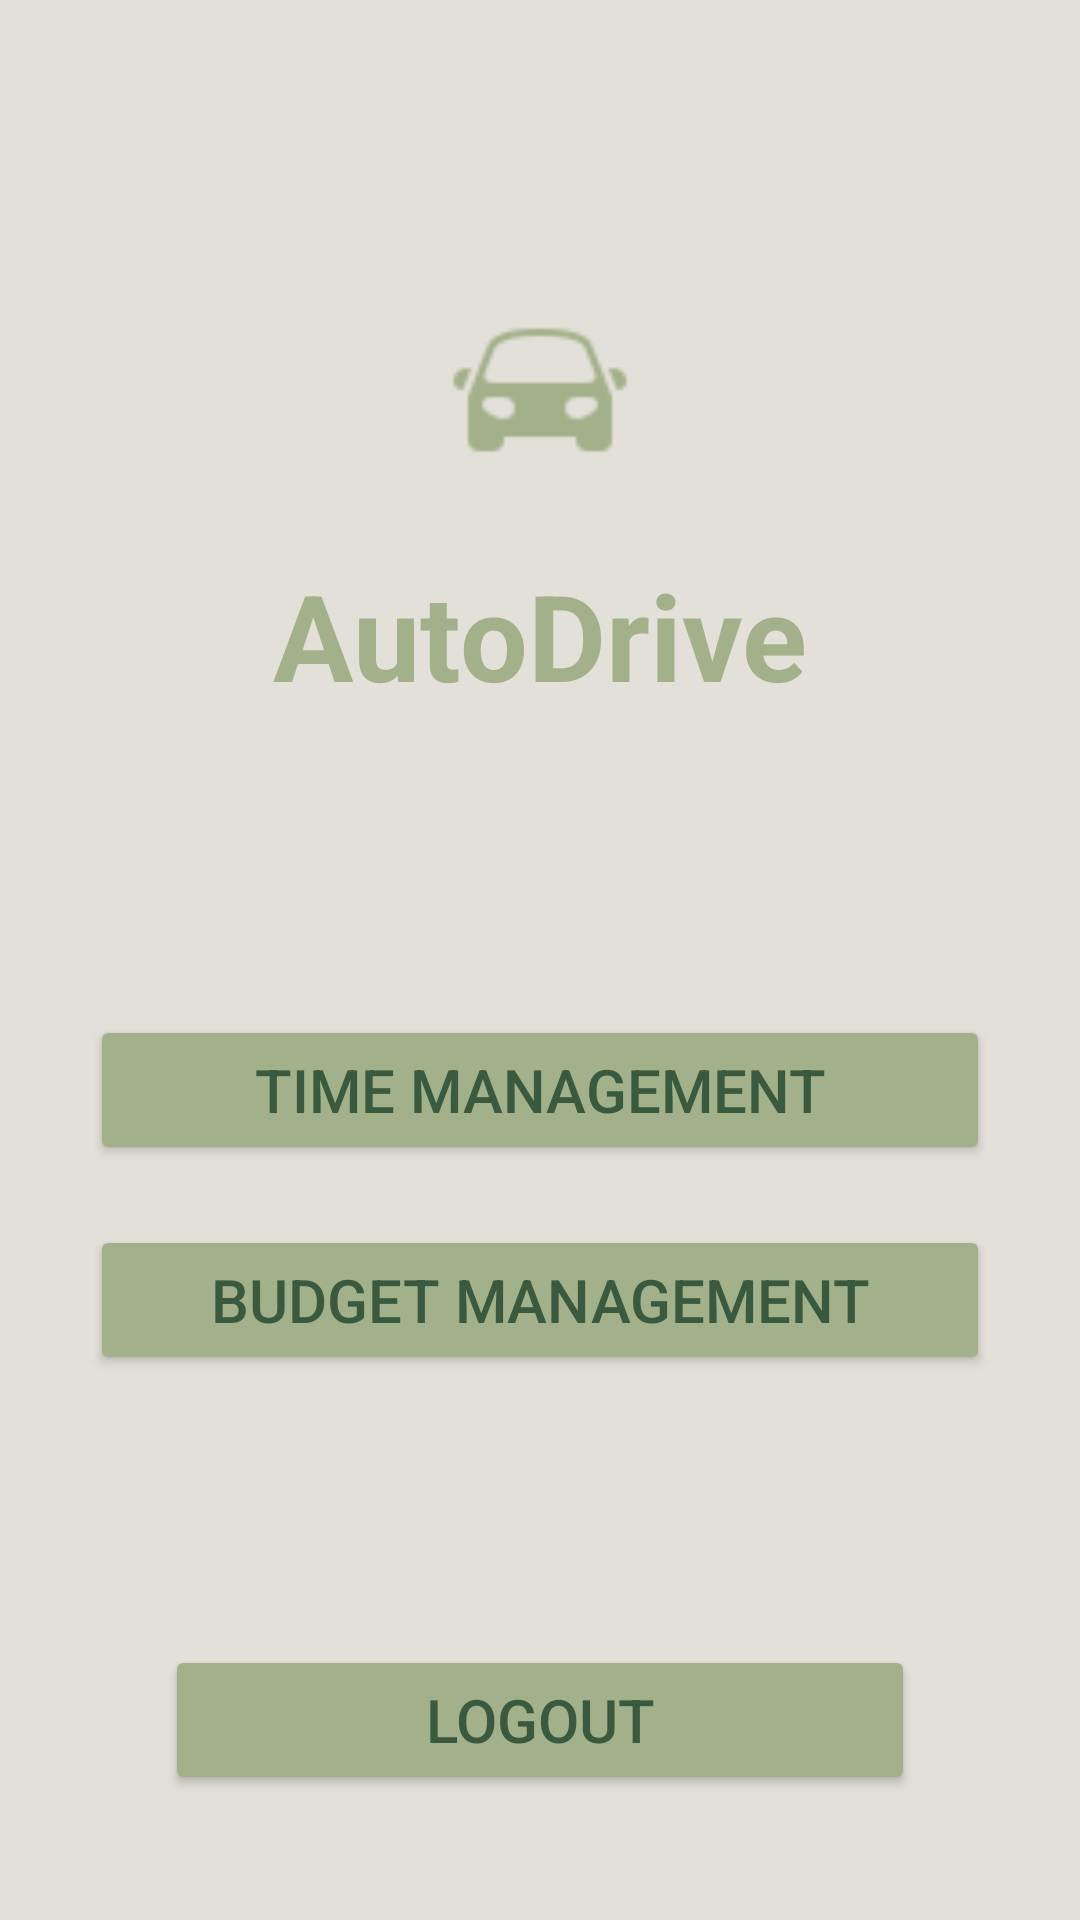

Icons on this 1080 × 1920 Android screen, each with the point to tap as (x,y):
car: (540,390)
